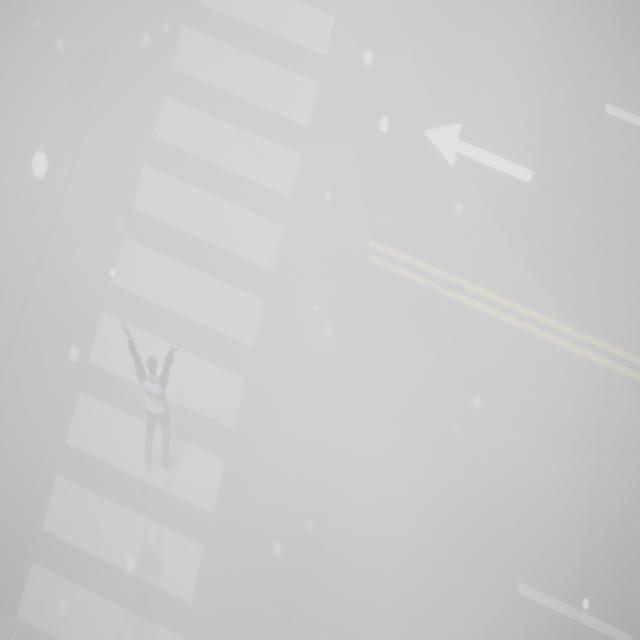Human: (115, 316, 178, 482)
